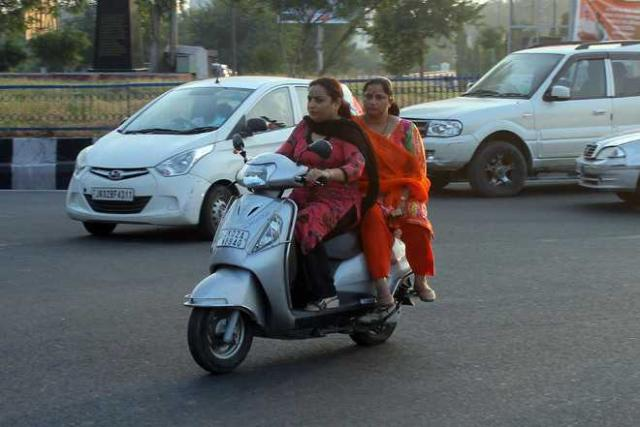licensePlate: (214, 226, 252, 250)
motorcycle: (180, 72, 433, 368)
withoutHelmet: (304, 81, 345, 121), (360, 75, 399, 116)
